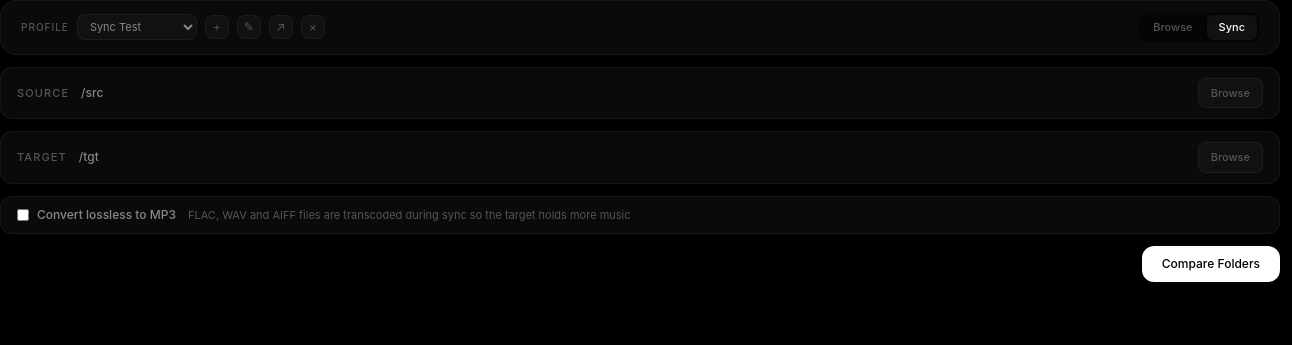
Scenario: FileManager › switches from Sync to Browse mode
Expected: the text "Source" is shown, [17,84,69,101]
// The mode toggle "Browse" is the first button with that name
Click the button "Browse" in the row of "Profile" at (1173, 27), box [1141,15,1205,40]
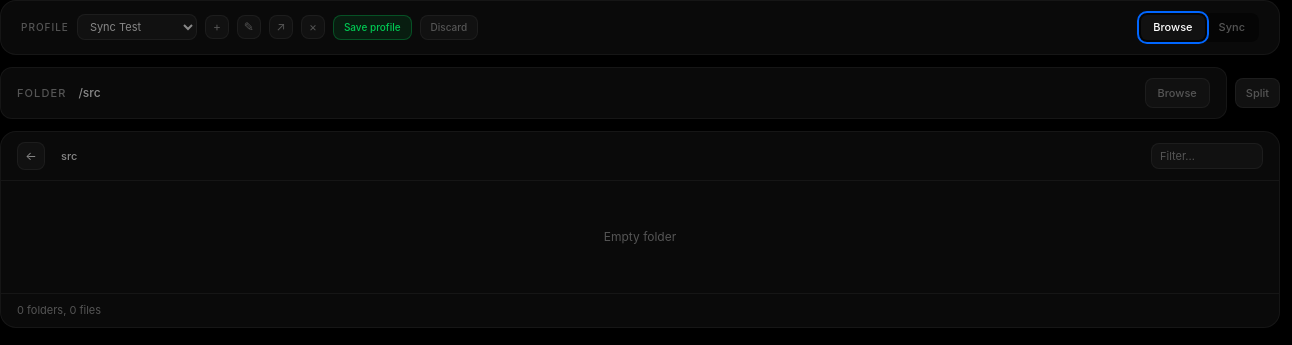
Expected: the text "/src" is shown, [78,85,101,100]
Result: the text "Source" is gone
